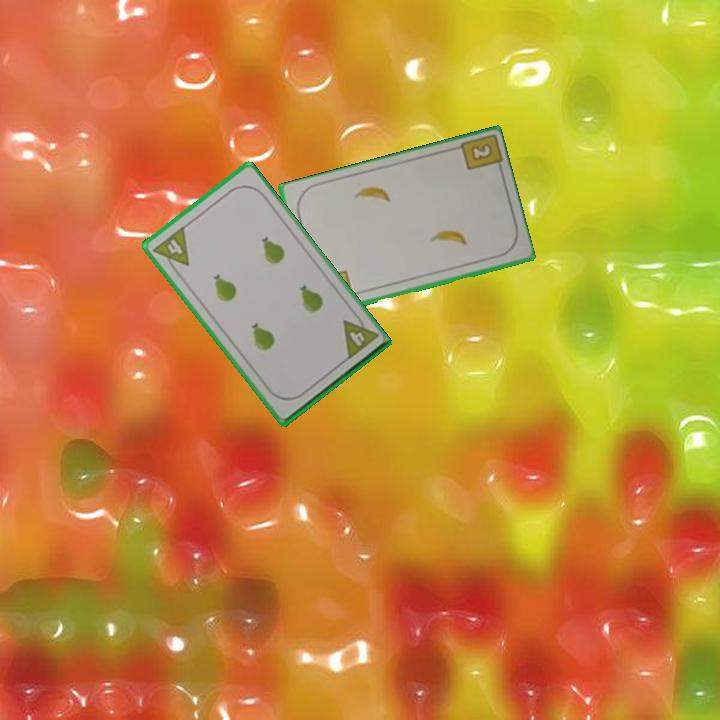2b: (467, 140, 495, 164)
4p: (149, 223, 192, 277), (339, 309, 381, 363)
